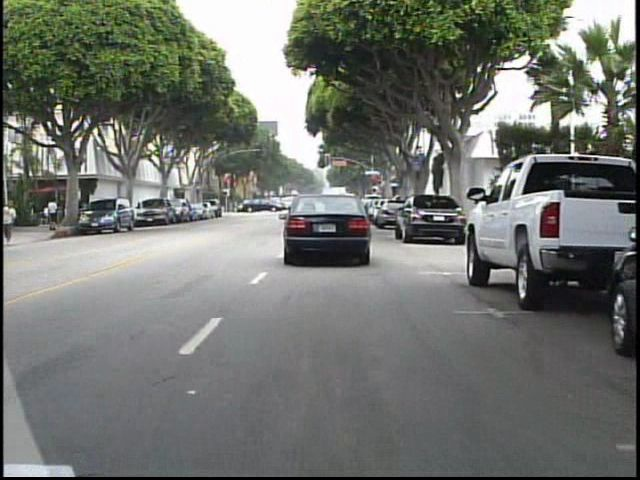person: (4, 194, 22, 251), (47, 194, 64, 232), (267, 193, 280, 217)
